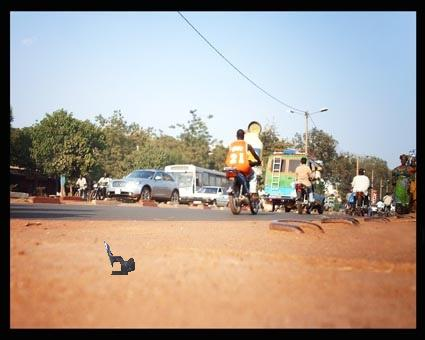tampered: (105, 242, 135, 275)
